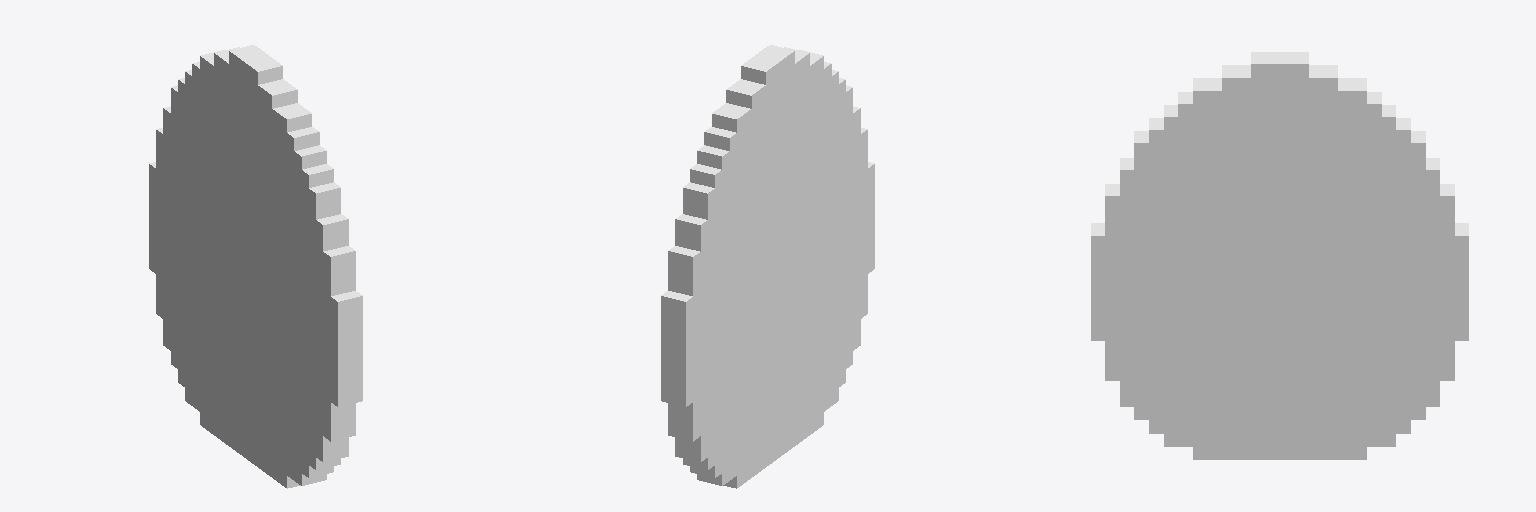
File: Plant3WallNut.obj
3 views of the same model, side by side, from view 1: azimuth 30°, elevation 25°; view 2: azimuth 150°, elevation 25°; view 3: azimuth 270°, elevation 25° (orthographic).
Parts seen in each view (by area): view 1: object 1; view 2: object 1; view 3: object 1.
Boxes of the visible parts, x1=… form: object 1: x1=149, y1=45, x2=362, y2=488; object 1: x1=661, y1=45, x2=874, y2=488; object 1: x1=1091, y1=52, x2=1468, y2=459.
Size of the model in its own units: 0.2 by 3 by 2.6.